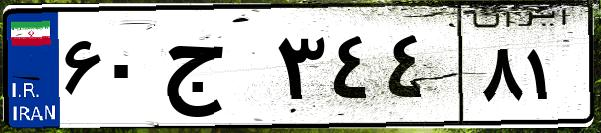0: (110, 28, 158, 98)
1: (525, 38, 570, 115)
3: (270, 28, 330, 110)
4: (385, 28, 445, 110), (330, 28, 385, 110)
6: (57, 26, 110, 100)
8: (475, 38, 525, 113)
ج: (158, 20, 270, 120)
